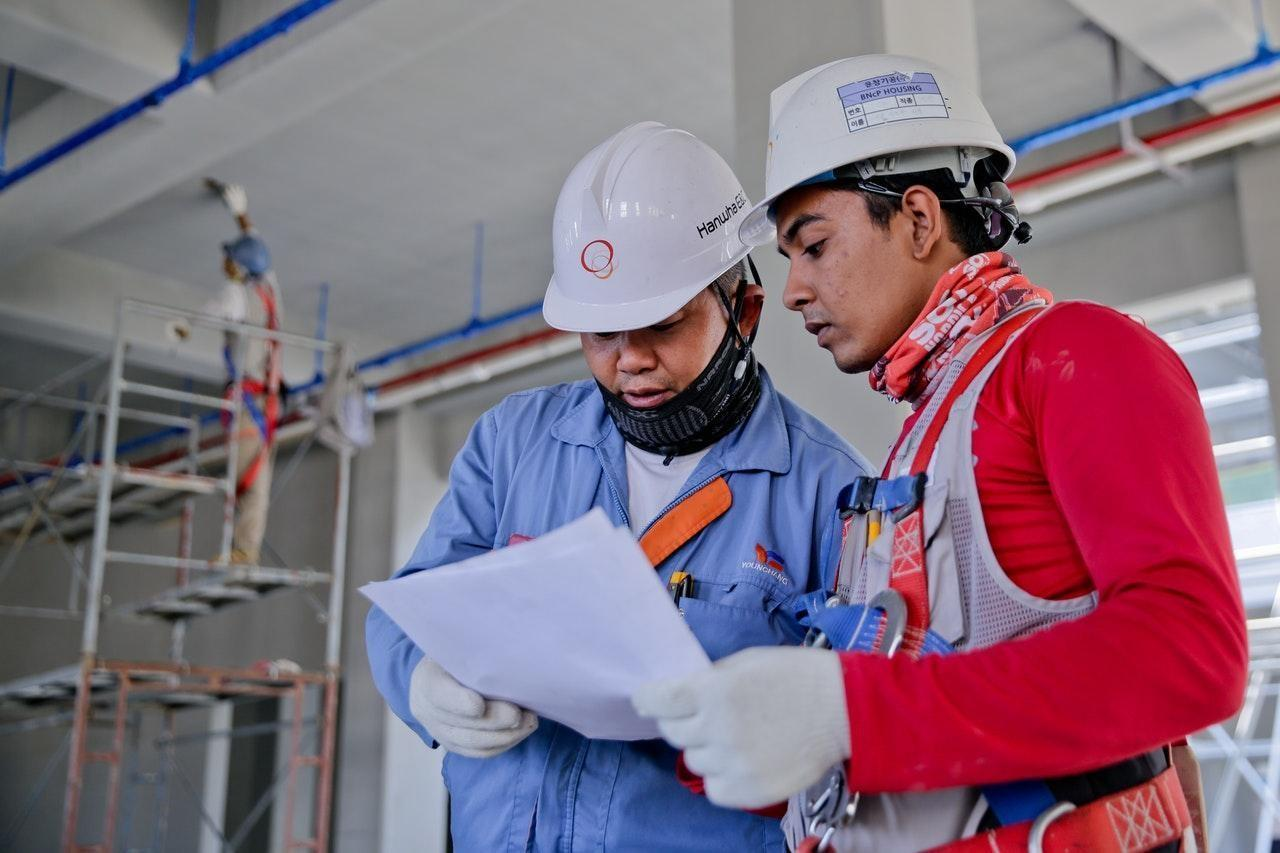gloves: (654, 634, 845, 817), (382, 657, 527, 781)
helmet: (535, 128, 753, 314), (741, 56, 1049, 187)
no-vest: (842, 379, 1200, 792), (482, 397, 773, 795)
person: (769, 8, 1237, 853), (312, 127, 844, 853)
